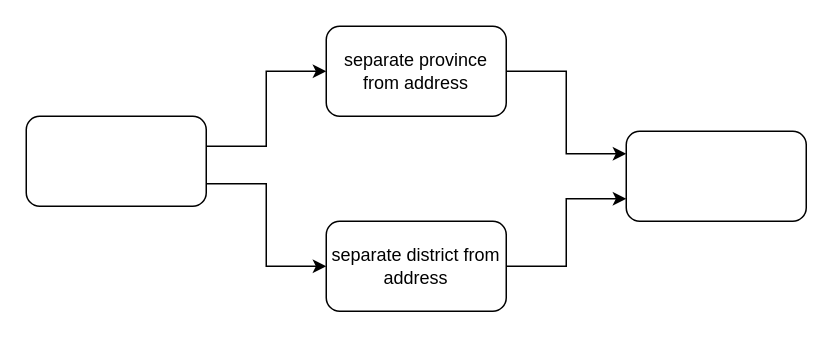
Some shapes in this 833 by 338 pixel diagram are drawn without their labels. Here are the shapes that lost their labels. From the top down, the centre of each, then its label:
point (115, 160): Address
point (715, 175): Delete administrative unit
